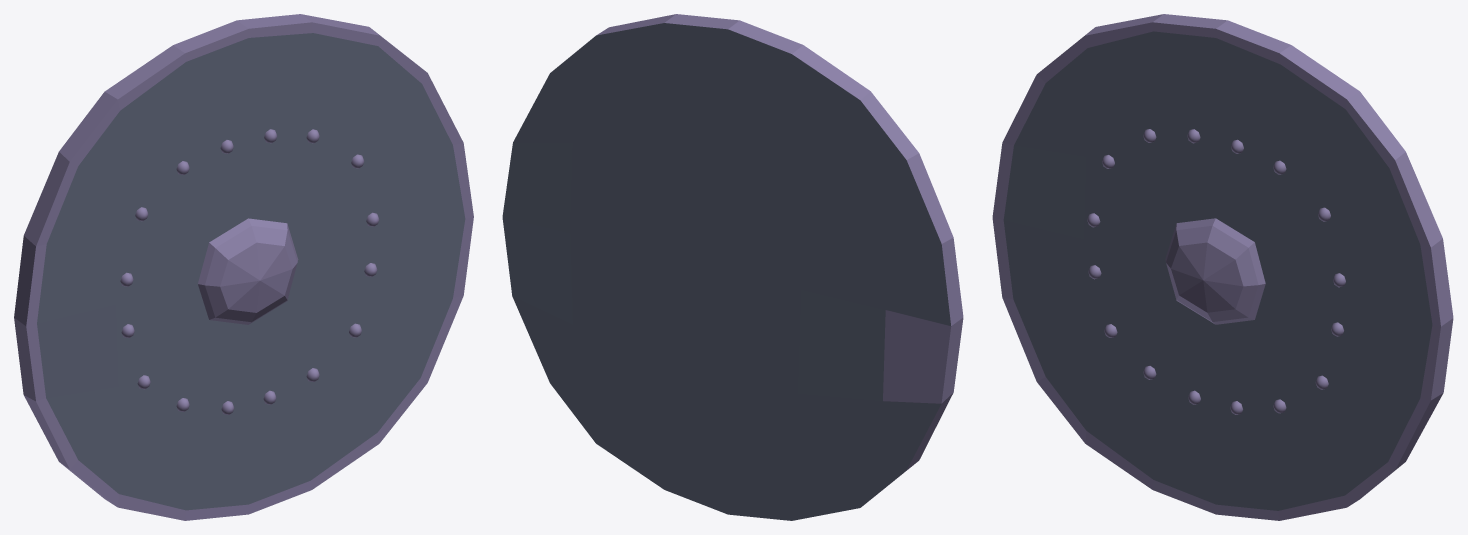
Rendered from Shield_Armor_6.fbx.
3 views of the same model, side by side, from view 1: azimuth 30°, elevation 25°; view 2: azimuth 150°, elevation 25°; view 3: azimuth 330°, elevation 25° (orthographic).
Parts seen in each view (by area): view 1: Shield 1.003; view 2: Shield 1.003; view 3: Shield 1.003.
Part boxes in pixels (<box>): Shield 1.003: <box>14,14,473,520</box>; Shield 1.003: <box>502,14,963,520</box>; Shield 1.003: <box>992,14,1453,520</box>.
Size of the model in its own units: 60.62 by 62.74 by 5.63.
